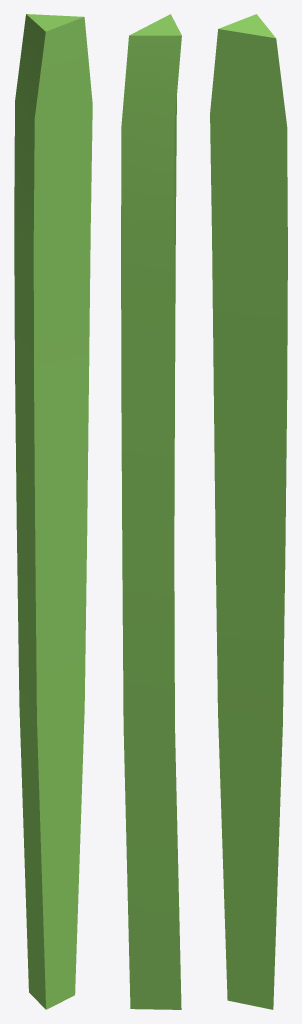
The model's file is lianas_M.fbx.
3 views of the same model, side by side, from view 1: azimuth 90°, elevation 25°; view 2: azimuth 150°, elevation 25°; view 3: azimuth 270°, elevation 25° (orthographic).
Parts seen in each view (by area): view 1: liana_M_thick; view 2: liana_M_thick; view 3: liana_M_thick, liana_M.
Part boxes in pixels (box(x1,y1,x2,y2)): liana_M_thick: box(14, 14, 92, 1009); liana_M_thick: box(121, 14, 181, 1009); liana_M_thick: box(210, 14, 287, 1009); liana_M: box(210, 141, 234, 264).
Size of the model in its own units: 1.89 by 39.08 by 2.83.
